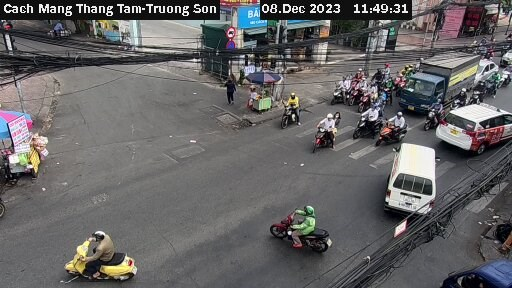car: (386, 141, 438, 222), (436, 103, 512, 155), (474, 57, 496, 83)
motorbike: (61, 236, 151, 284), (268, 206, 340, 261), (308, 109, 346, 152), (275, 95, 309, 132), (375, 110, 406, 148), (351, 100, 378, 138), (422, 96, 443, 125), (333, 79, 348, 102), (359, 87, 374, 109)
truck: (401, 51, 479, 110)
